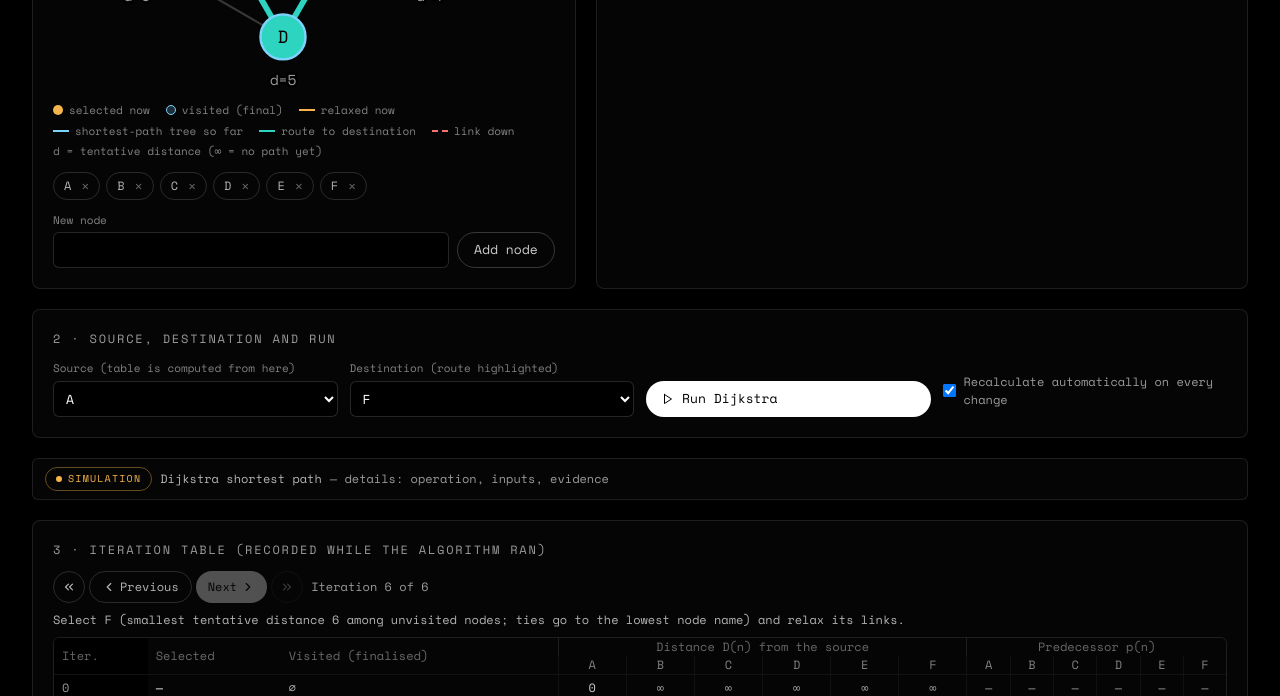
Test: Dijkstra lab — stale and failed results › marks results out of date when auto-recalculate is off, and re-runs on demand
(page scrolled)
Click the checkbox labelled "Recalculate automatically on every change" at (949, 390), box [942,384,956,397]
(page scrolled)
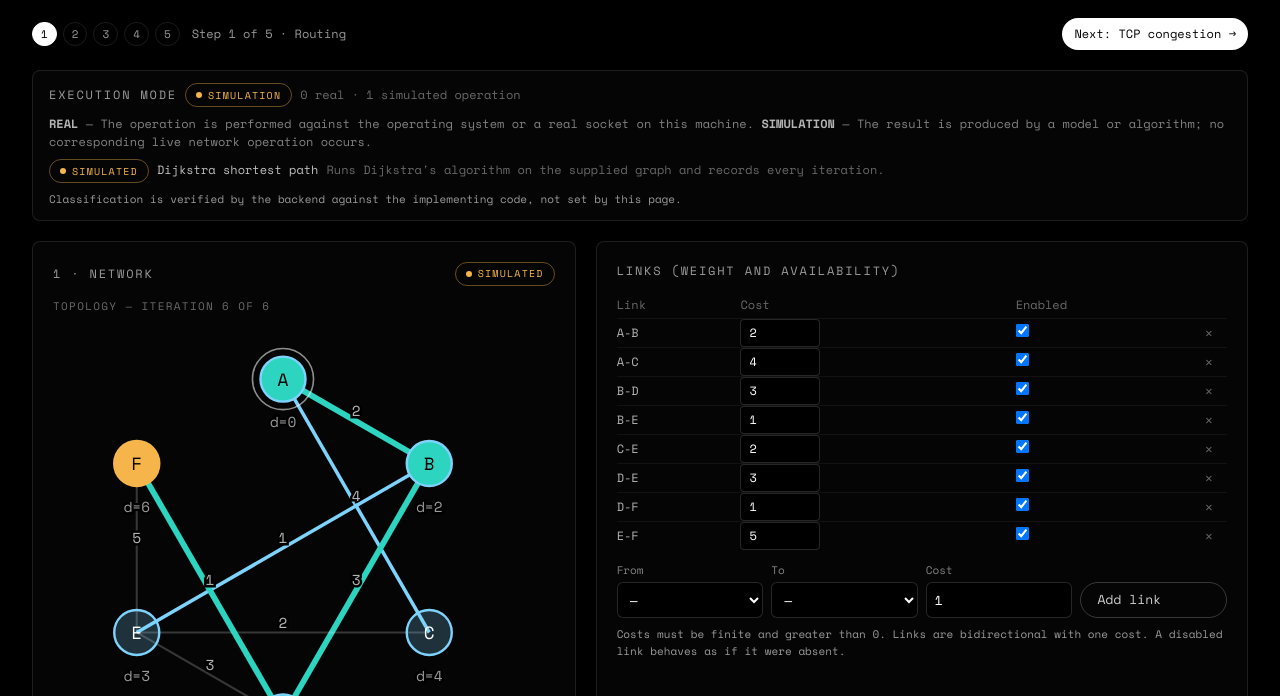
Replace the text in the number field named "Cost of B-D" with "9" at (780, 390), box [740,376,820,404]
(page scrolled)
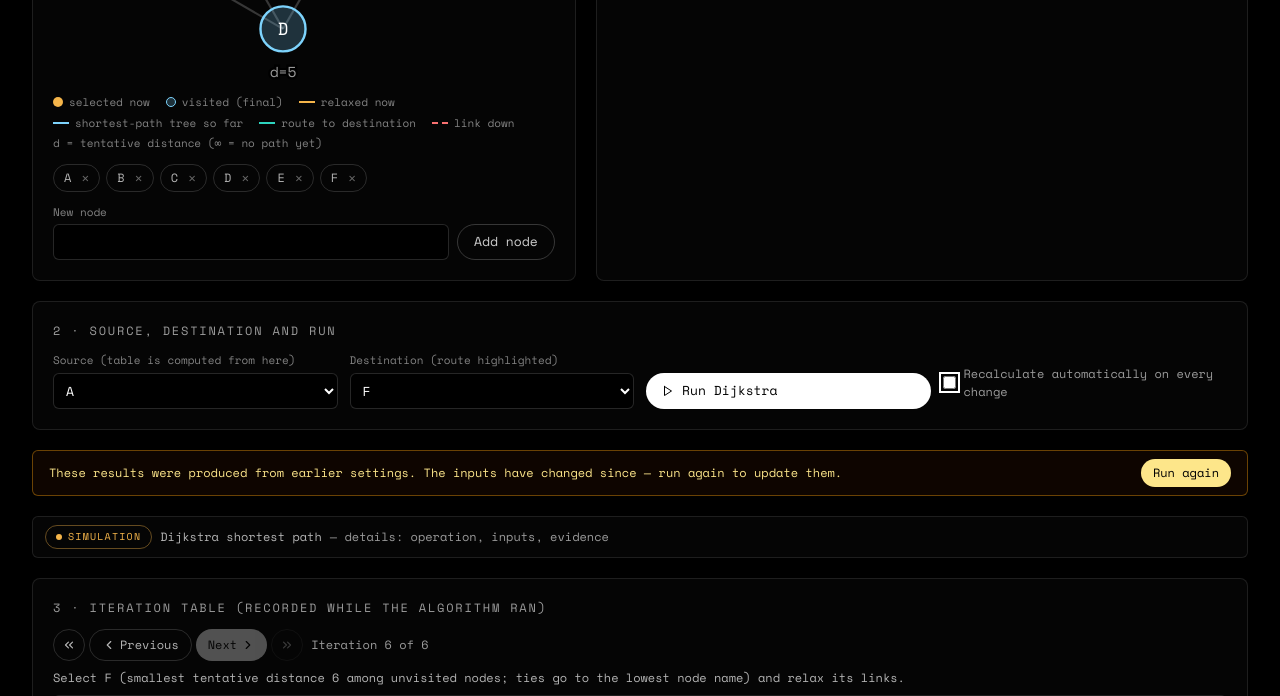
Check: the message with test id "stale" shows "earlier settings", box [49,464,842,480]
Click the button "Run Dijkstra" at (730, 390), box [646,372,930,408]
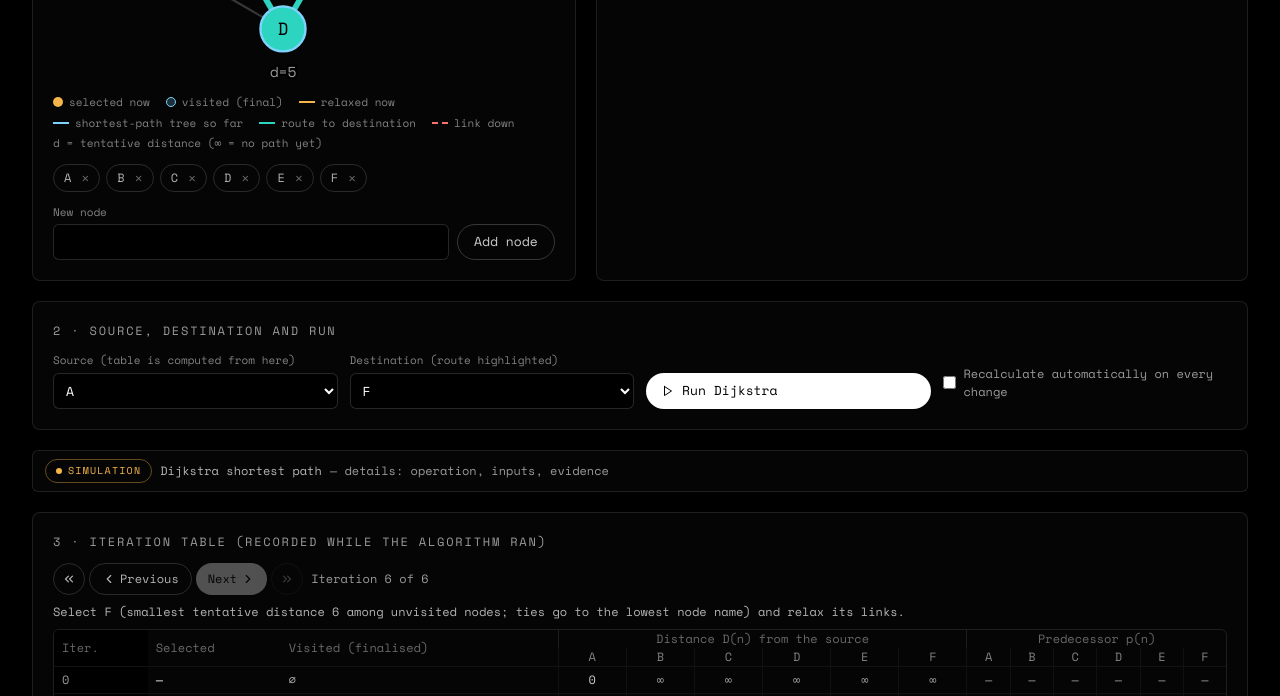
Check: the message with test id "stale" is gone
